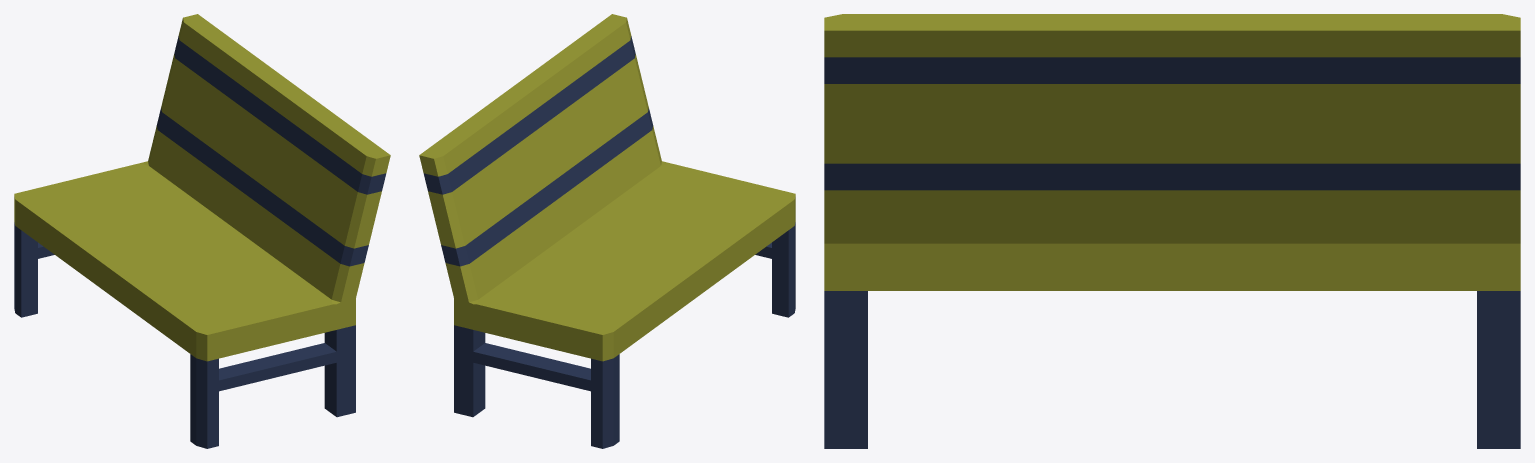
Rendered from BenchModel05.fbx.
3 renders of one model, left to right at view 1: azimuth 30°, elevation 25°; view 2: azimuth 150°, elevation 25°; view 3: azimuth 270°, elevation 25°, orthographic. The views are drawn at different scales.
Parts seen in each view (by area): view 1: Bench05; view 2: Bench05; view 3: Bench05.
Part boxes in pixels (<box>): Bench05: <box>14,14,390,448</box>; Bench05: <box>419,14,795,448</box>; Bench05: <box>824,14,1520,448</box>.
Bounding box in the file's own units: 100 × 126 × 177.
